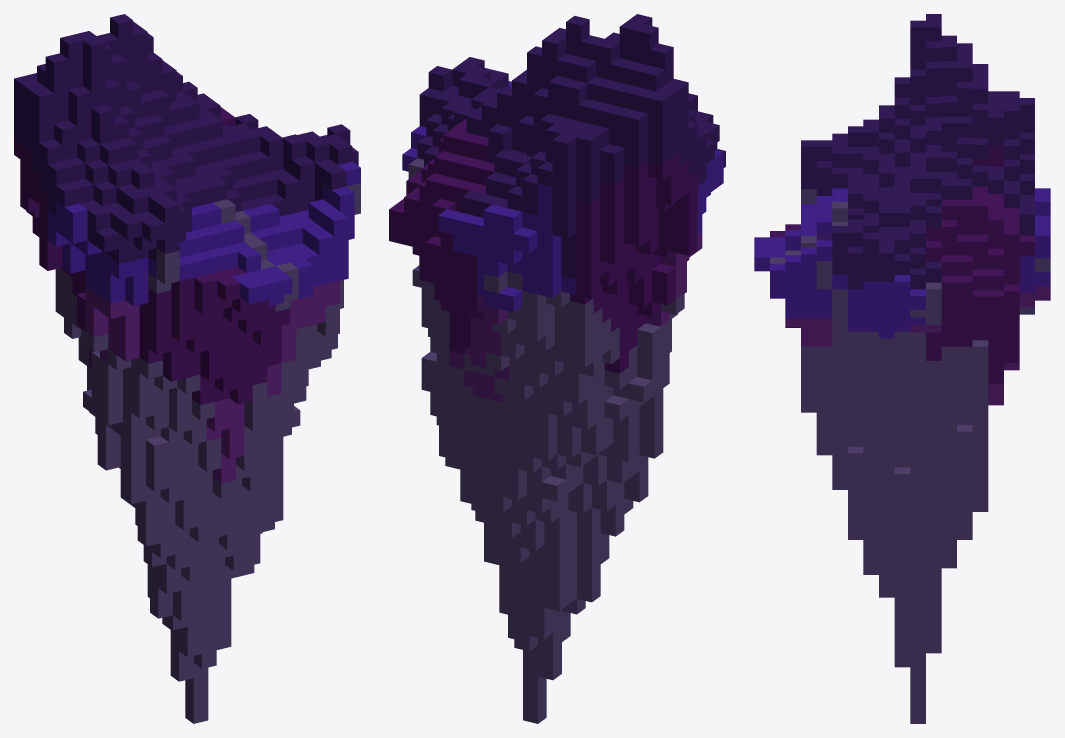
Rendered from stalag.obj.
3 views of the same model, side by side, from view 1: azimuth 30°, elevation 25°; view 2: azimuth 150°, elevation 25°; view 3: azimuth 270°, elevation 25° (orthographic). The views are drawn at different scales.
Visible parts, largest first — view 1: stalag; view 2: stalag; view 3: stalag.
Part boxes in pixels (box(x1,y1,x2,y2)): stalag: box(14, 14, 360, 723); stalag: box(389, 14, 725, 723); stalag: box(754, 14, 1050, 723).
Size of the model in its own units: 19 by 46 by 19.
Materials: 1 (1 with a texture image).
